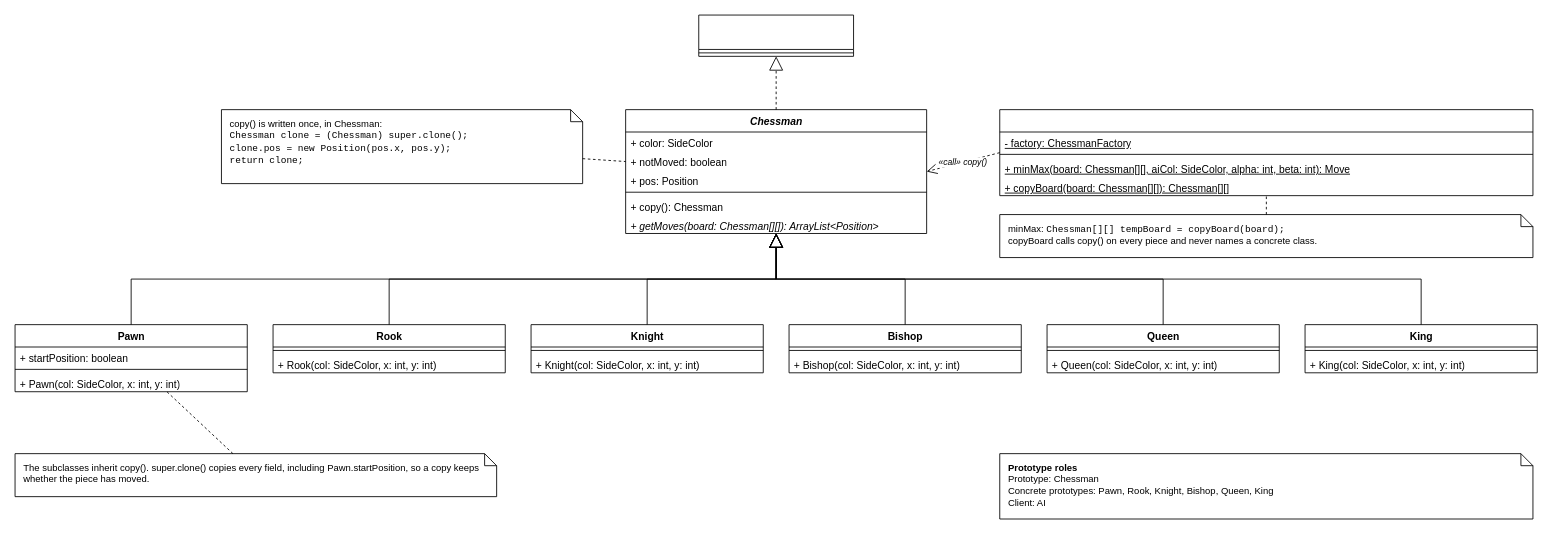
The diagram is 1552 pixels wide and 534 high, and some of its shapes have lost their labels. Here are the shapes that lost their labels. From the top down, the box of each, then its label:
(698, 14, 854, 56): «interface» Cloneable
(999, 109, 1533, 196): AI
